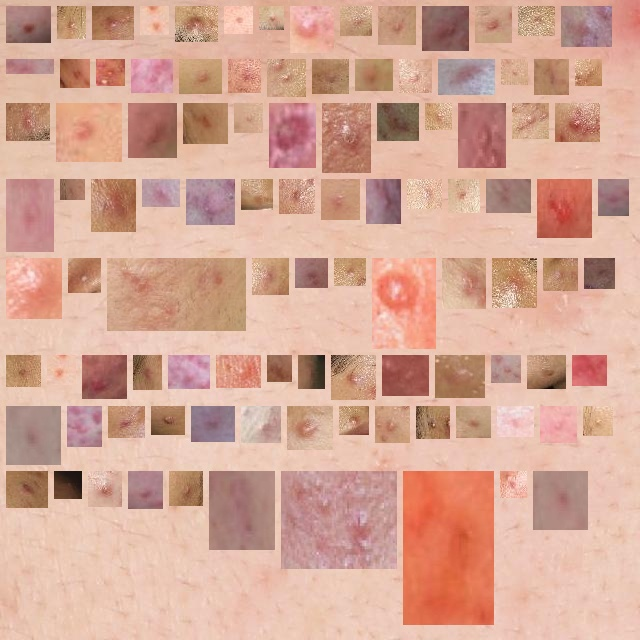papule: (411, 479, 486, 617), (289, 479, 389, 561), (115, 266, 238, 323), (380, 266, 428, 341), (217, 479, 267, 542), (64, 111, 114, 154), (14, 187, 46, 244), (14, 266, 54, 311), (330, 111, 363, 165), (545, 187, 584, 230), (14, 414, 53, 457), (541, 479, 580, 522), (466, 111, 498, 160), (277, 111, 308, 160), (136, 111, 169, 150), (99, 187, 128, 224), (194, 187, 227, 217), (500, 266, 529, 300), (450, 266, 478, 301), (443, 363, 477, 390), (430, 14, 461, 43), (569, 14, 604, 39), (298, 14, 326, 45), (339, 363, 368, 392), (295, 414, 325, 442), (446, 67, 487, 87), (90, 363, 119, 391), (390, 363, 421, 388), (191, 111, 220, 136), (563, 111, 592, 134), (14, 111, 42, 133), (14, 14, 43, 35), (329, 187, 352, 212), (385, 111, 411, 133), (199, 414, 227, 434), (374, 187, 393, 216), (14, 479, 40, 500), (183, 14, 210, 34), (494, 187, 523, 205), (187, 67, 214, 86), (386, 14, 408, 37), (275, 67, 298, 89), (249, 414, 273, 435), (224, 363, 253, 380), (75, 414, 94, 439), (100, 14, 126, 32), (139, 67, 165, 85), (176, 363, 202, 381), (483, 14, 504, 35), (260, 266, 281, 287), (548, 414, 569, 435), (520, 111, 541, 131), (136, 479, 155, 501), (535, 363, 558, 381), (320, 67, 341, 86), (383, 414, 402, 435), (542, 67, 561, 87), (287, 187, 307, 206), (96, 479, 114, 499), (363, 67, 385, 83), (177, 479, 195, 498), (116, 414, 137, 430), (76, 266, 93, 285), (551, 266, 570, 283), (606, 187, 621, 208), (505, 414, 526, 429), (236, 67, 253, 85), (407, 67, 424, 85), (424, 414, 442, 431), (14, 363, 33, 379), (464, 414, 483, 430), (526, 14, 547, 28), (456, 187, 472, 205), (580, 363, 599, 378), (249, 187, 265, 204), (415, 187, 434, 201), (150, 187, 172, 199), (141, 363, 154, 382), (303, 266, 320, 280), (159, 414, 177, 427), (592, 266, 607, 281), (348, 14, 364, 28), (14, 59, 46, 66), (65, 14, 78, 31), (306, 363, 317, 381), (591, 414, 605, 428), (342, 266, 358, 278), (68, 67, 82, 80), (242, 111, 255, 125), (55, 363, 68, 377), (347, 414, 361, 427), (148, 14, 161, 27), (499, 363, 513, 375), (232, 14, 245, 26), (62, 479, 74, 491), (104, 67, 117, 78), (583, 67, 594, 78), (433, 111, 444, 122), (508, 479, 519, 490), (509, 67, 520, 77), (275, 363, 284, 374), (267, 14, 276, 22), (68, 187, 77, 192)
